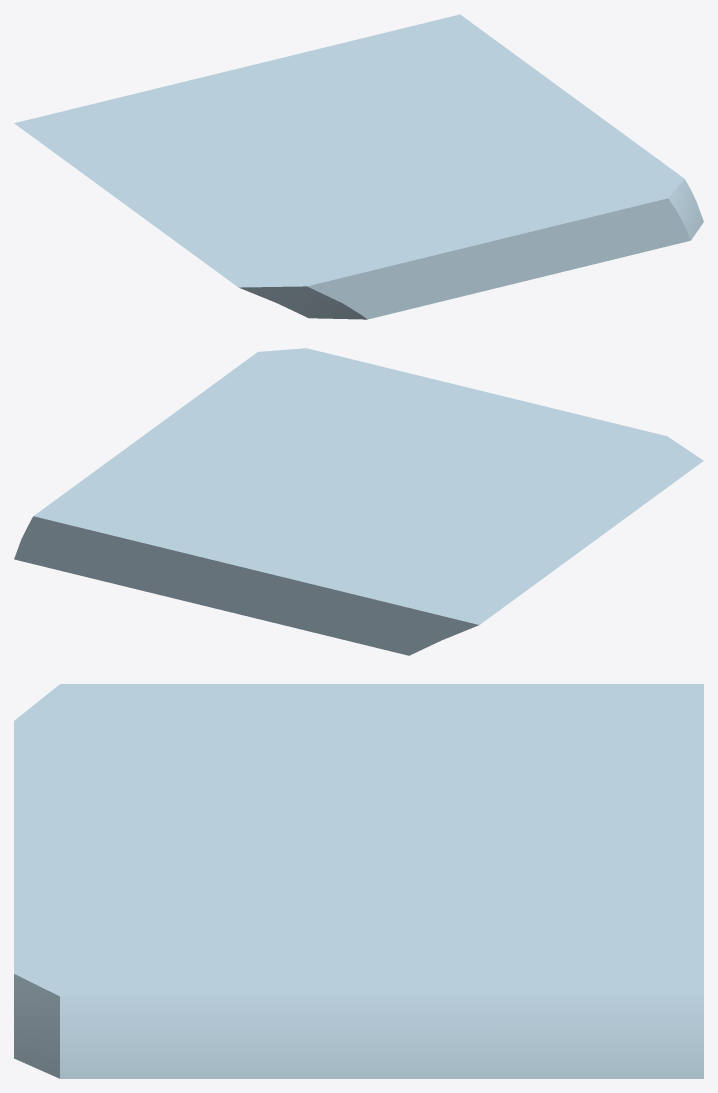
The model's file is STAM - S2.gltf.
3 renders of one model, top to bottom at view 1: azimuth 30°, elevation 25°; view 2: azimuth 150°, elevation 25°; view 3: azimuth 270°, elevation 25°, orthographic. The views are drawn at different scales.
Parts seen in each view (by area): view 1: S2; view 2: S2; view 3: S2.
Part boxes in pixels (left/top/right/bottom): S2: left=14, top=14, right=703, bottom=319; S2: left=14, top=348, right=703, bottom=655; S2: left=14, top=684, right=703, bottom=1078.
Size of the model in its own units: 0.0168 by 0.00165 by 0.015.
